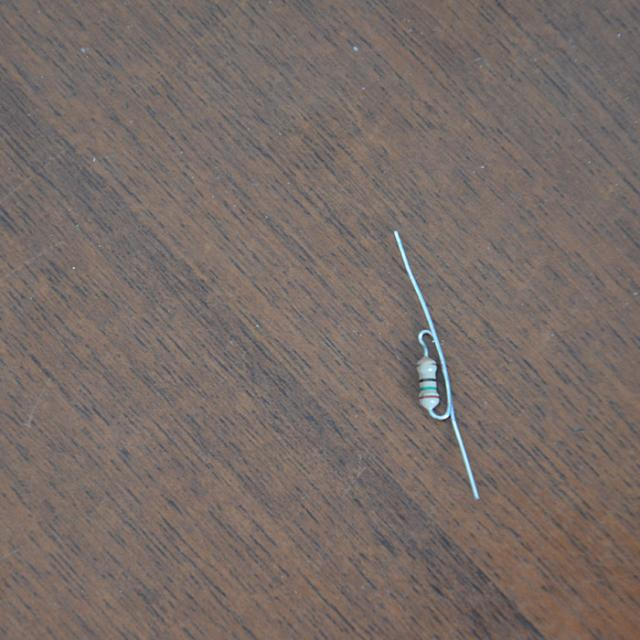black: (420, 378, 436, 382)
brown: (420, 395, 437, 399)
gold: (419, 361, 436, 366)
green: (421, 386, 436, 391)
resistor: (403, 354, 450, 414)
